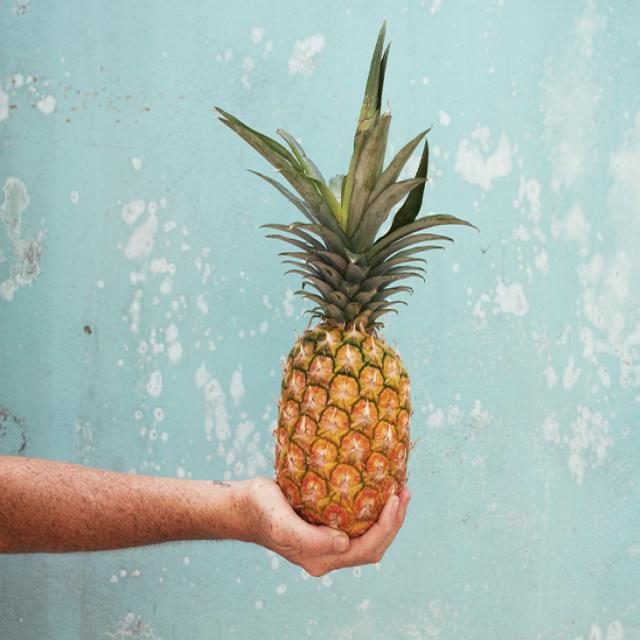pineapple: (273, 143, 411, 538)
